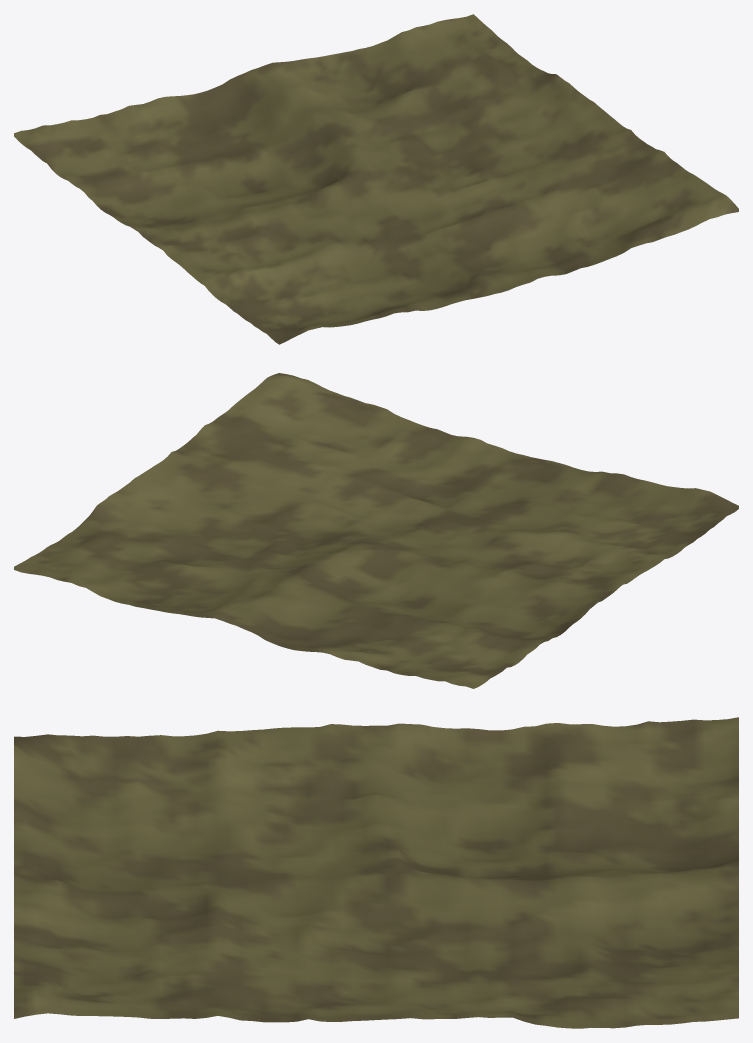
File: land_f_08_02.glb
3 views of the same model, one above another, from view 1: azimuth 30°, elevation 25°; view 2: azimuth 150°, elevation 25°; view 3: azimuth 270°, elevation 25° (orthographic). The views are drawn at different scales.
Parts seen in each view (by area): view 1: land_f_08_02; view 2: land_f_08_02; view 3: land_f_08_02.
Boxes of the visible parts, bbox=[...] form: land_f_08_02: bbox=[14, 14, 738, 344]; land_f_08_02: bbox=[14, 373, 738, 688]; land_f_08_02: bbox=[14, 717, 738, 1028].
Size of the model in its own units: 3840 by 296 by 3840.
